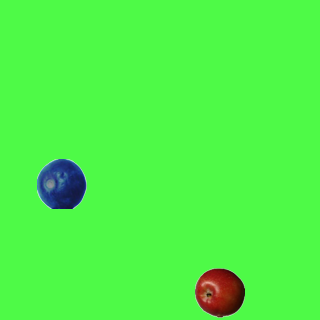Apple Braeburn: (194, 267, 244, 317)
Huckleberry: (36, 158, 86, 208)
